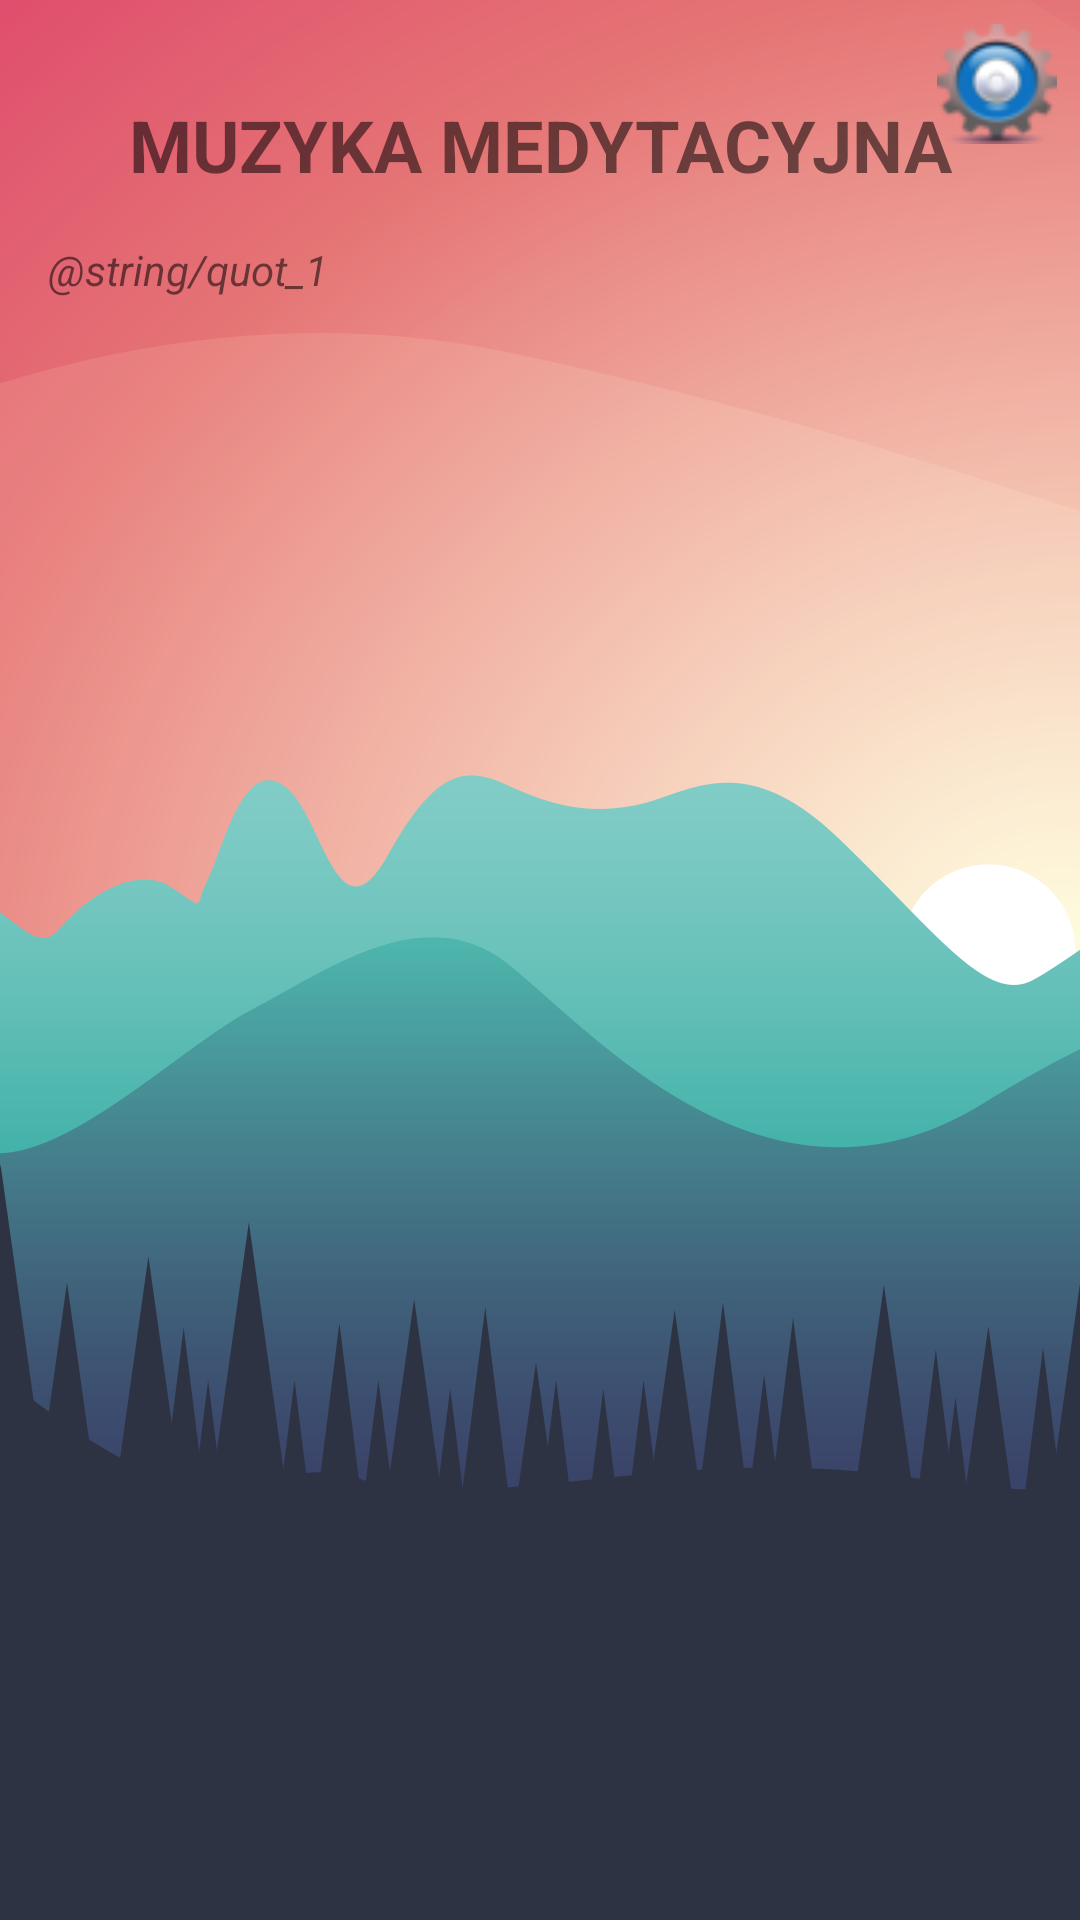

Icon bounding boxes for this 1080 x 1920 phone screenshot, format (left=x1, top=y1, right=x2, bottom=y2):
settings very: (left=937, top=24, right=1057, bottom=144)
